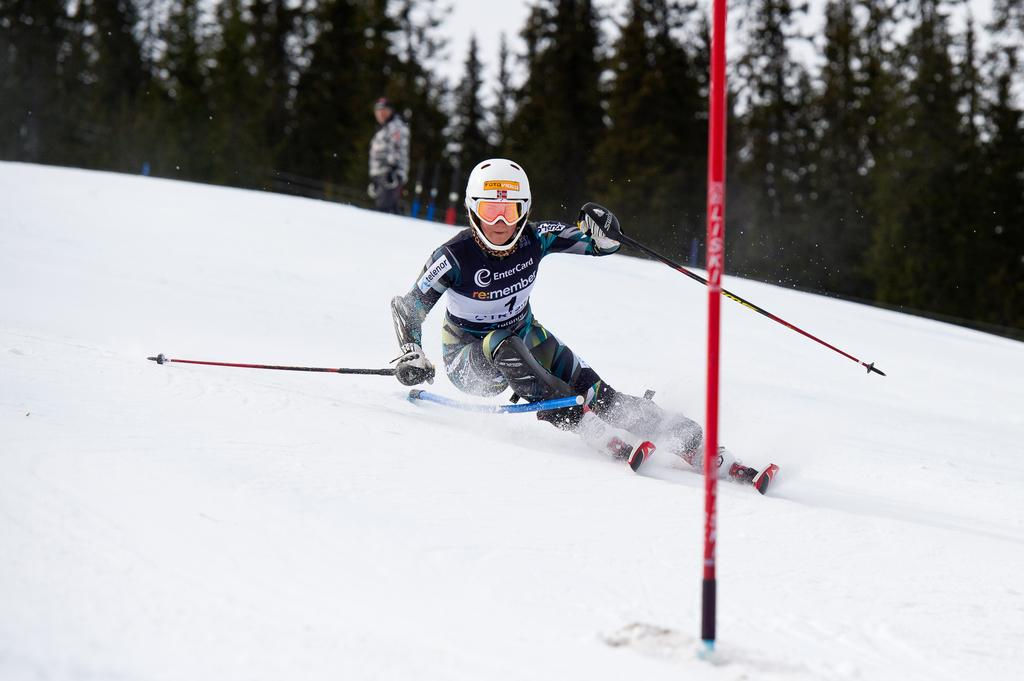helmet: (464, 158, 532, 258)
